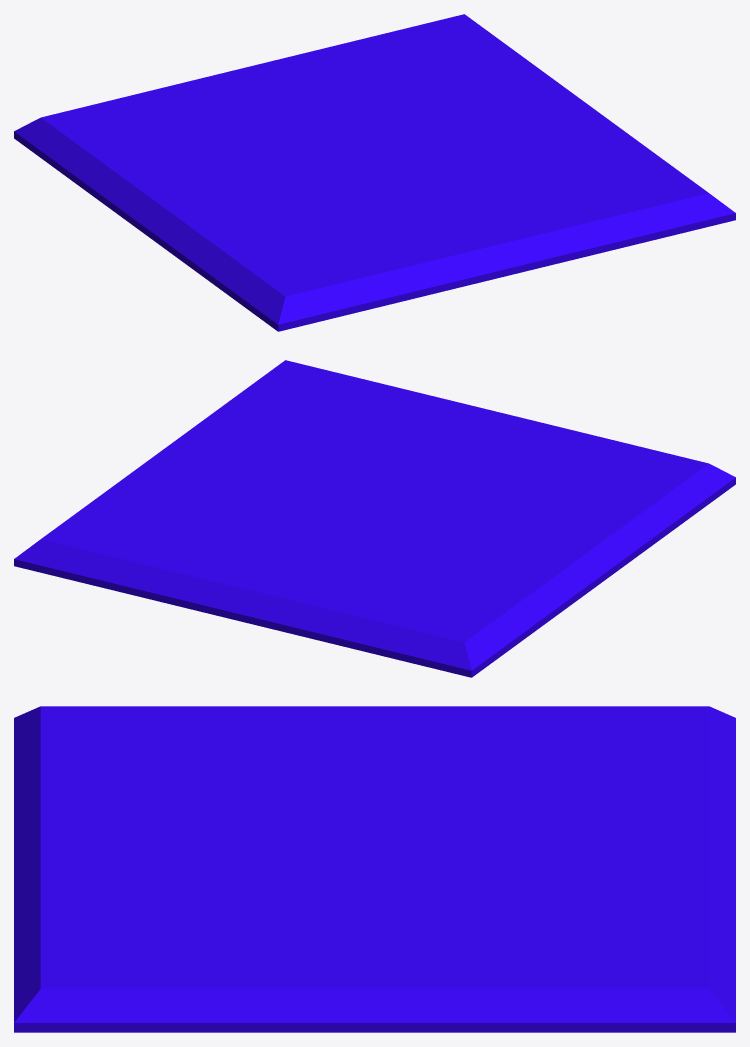
The model's file is pressure_plate_low.FBX.
The picture shows the model from 3 angles, top to bottom: view 1: azimuth 30°, elevation 25°; view 2: azimuth 150°, elevation 25°; view 3: azimuth 270°, elevation 25°; orthographic projection. The views are drawn at different scales.
Visible parts, largest first — view 1: pressure_plate_low; view 2: pressure_plate_low; view 3: pressure_plate_low.
Boxes of the visible parts, box(x1,y1,x2,y2) form: pressure_plate_low: box(14, 14, 735, 331); pressure_plate_low: box(14, 360, 735, 677); pressure_plate_low: box(14, 706, 735, 1032).
Bounding box in the file's own units: 157 × 7.87 × 157.
